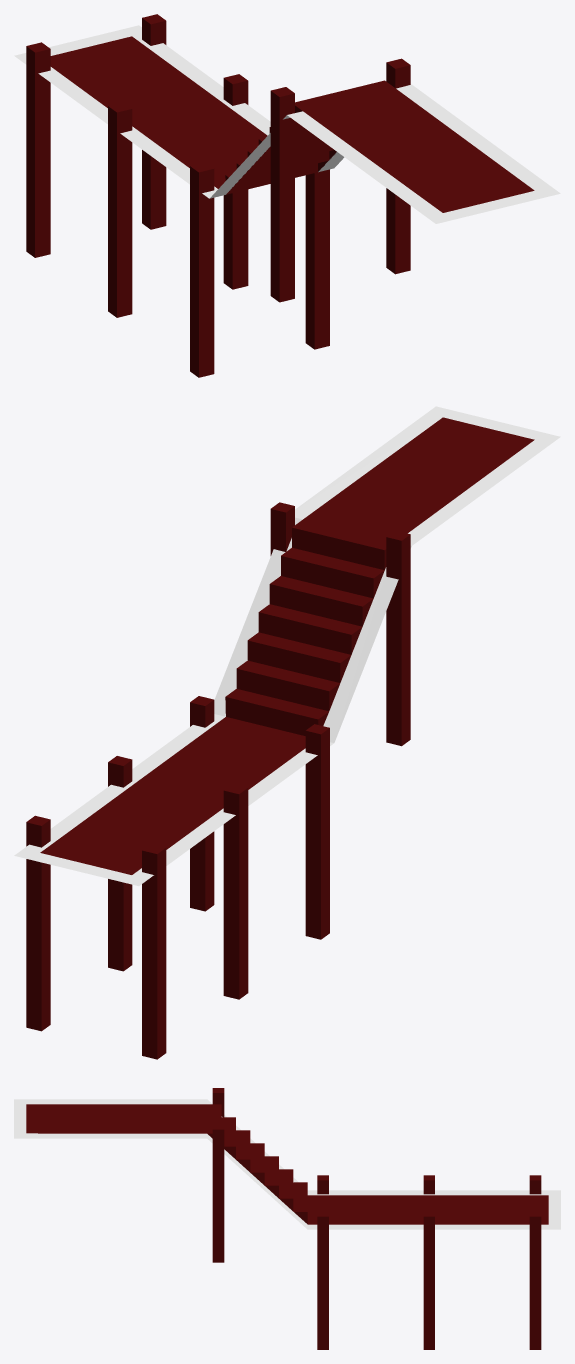
Rendered from FBX_PortOne.fbx.
The picture shows the model from 3 angles, top to bottom: view 1: azimuth 30°, elevation 25°; view 2: azimuth 150°, elevation 25°; view 3: azimuth 270°, elevation 25°; orthographic projection. The views are drawn at different scales.
Parts seen in each view (by area): view 1: PortOne; view 2: PortOne; view 3: PortOne.
Part boxes in pixels (<box>): PortOne: <box>14,14,560,377</box>; PortOne: <box>14,406,560,1059</box>; PortOne: <box>14,1088,560,1349</box>.
Size of the model in its own units: 127 by 314 by 708.
